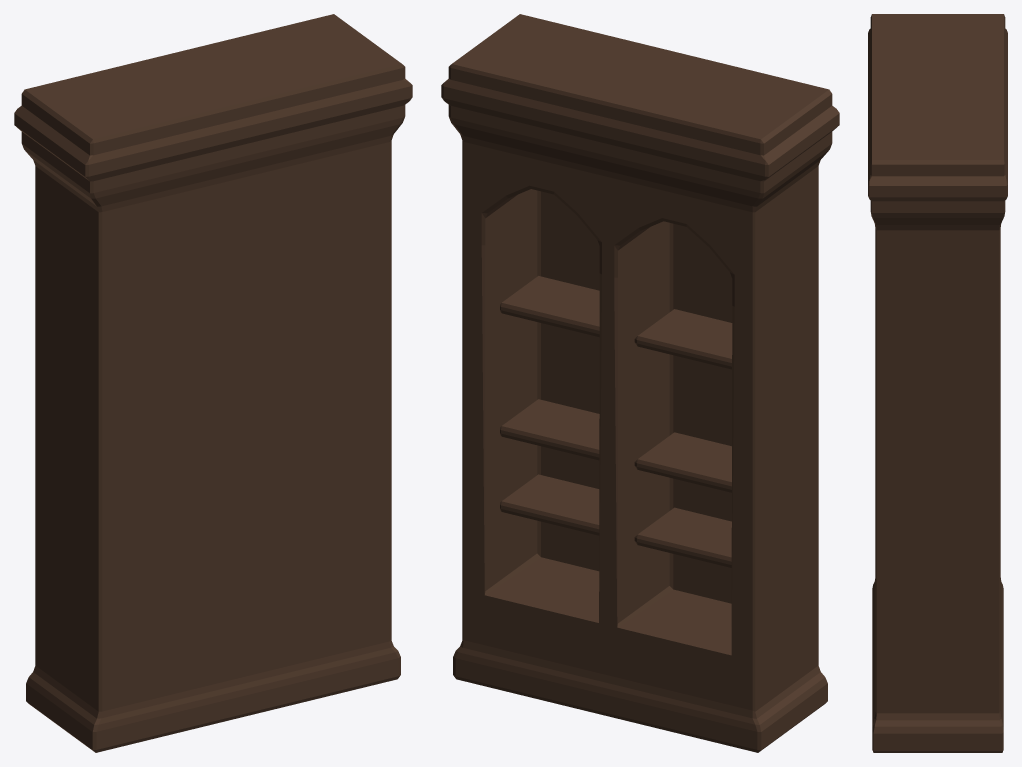
The model's file is Shelf2.fbx.
The picture shows the model from 3 angles, left to right: view 1: azimuth 30°, elevation 25°; view 2: azimuth 150°, elevation 25°; view 3: azimuth 270°, elevation 25°; orthographic projection. The views are drawn at different scales.
Visible parts, largest first — view 1: Shelf2; view 2: Shelf2; view 3: Shelf2.
Boxes of the visible parts, x1,y1,x2,y2 form: Shelf2: (14,14,412,752); Shelf2: (441,14,839,752); Shelf2: (868,14,1007,752).
Bounding box in the file's own units: 1.22 × 2.19 × 0.4671.
